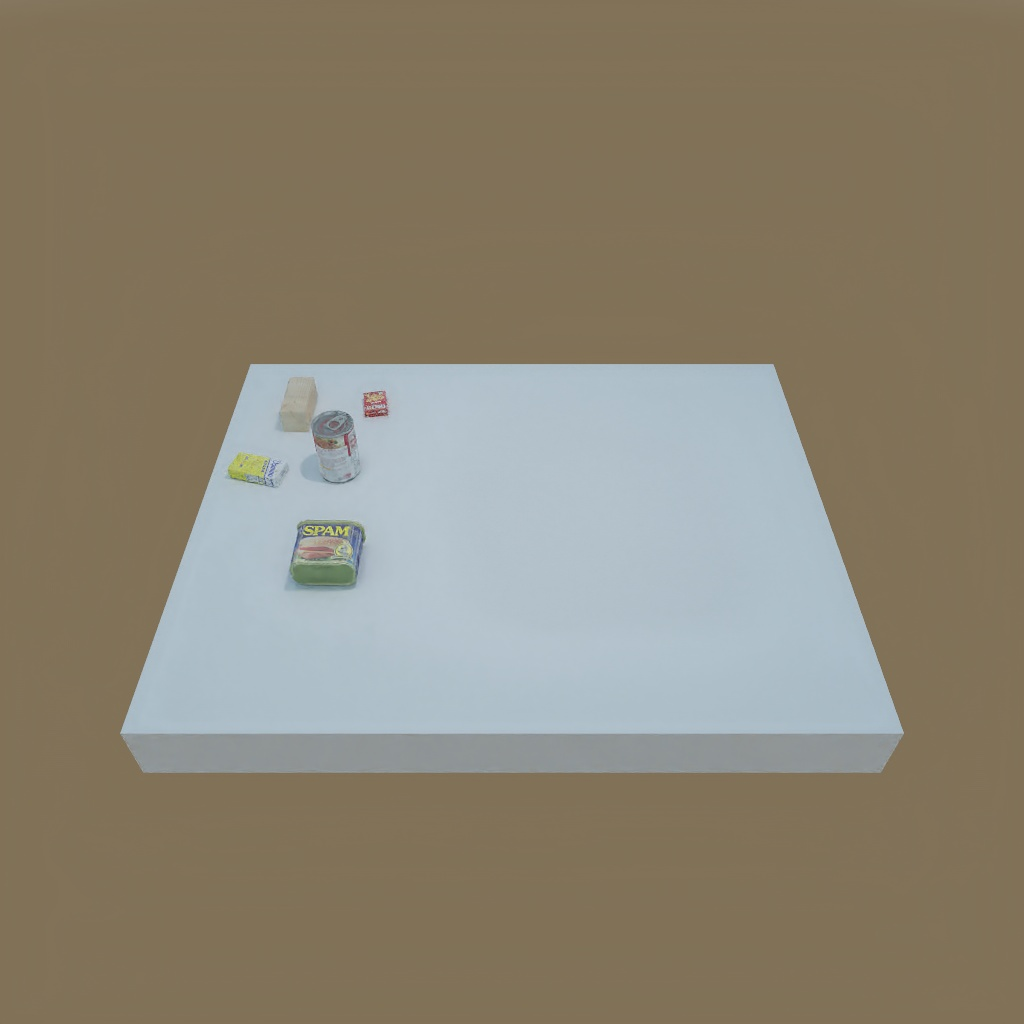potted_meat_can: (287, 516, 367, 589)
tomato_soup_can: (310, 407, 363, 484)
wood_block: (274, 376, 317, 431)
